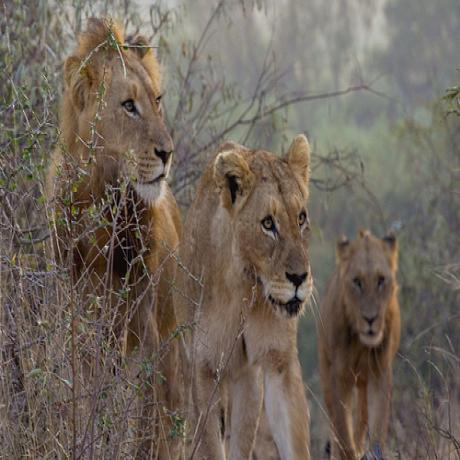Lion: (53, 17, 182, 460), (174, 134, 314, 460), (320, 228, 403, 460)
